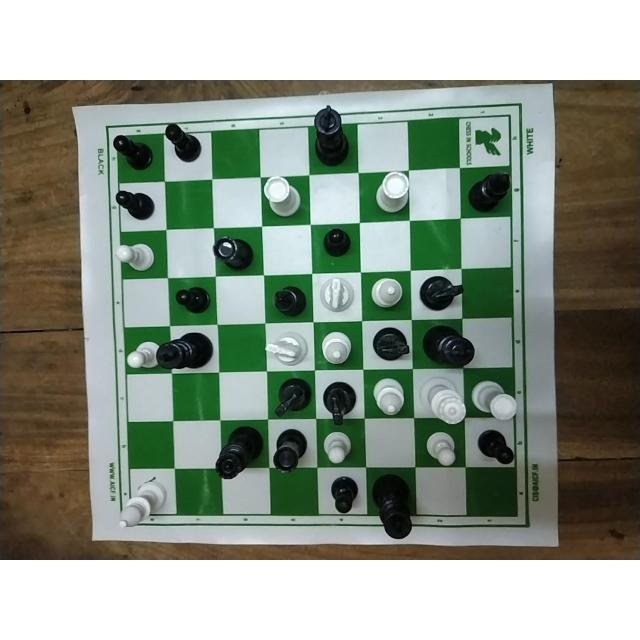black-bishop: (465, 171, 512, 213), (272, 283, 307, 318)
black-king: (371, 473, 413, 539), (420, 324, 475, 366), (313, 103, 349, 167), (156, 332, 214, 370)
black-knight: (321, 379, 357, 427), (273, 376, 312, 420), (418, 274, 464, 310), (368, 326, 410, 364)
black-pawn: (112, 134, 153, 172), (474, 428, 515, 464), (165, 122, 201, 162), (328, 475, 364, 512), (114, 190, 153, 222), (173, 286, 212, 314), (321, 227, 352, 258)
black-queen: (212, 425, 264, 481)
black-rook: (270, 430, 309, 474), (211, 234, 257, 269)
white-bishop: (115, 480, 167, 530), (371, 377, 405, 416), (319, 332, 352, 366), (368, 276, 402, 309)
white-knight: (261, 332, 309, 366), (316, 275, 355, 311)
white-pawn: (113, 241, 156, 273), (422, 428, 457, 466), (319, 430, 352, 465), (125, 339, 159, 369)
white-queen: (418, 375, 468, 425)
white-rook: (469, 377, 516, 419), (370, 170, 407, 215), (261, 175, 300, 217)
